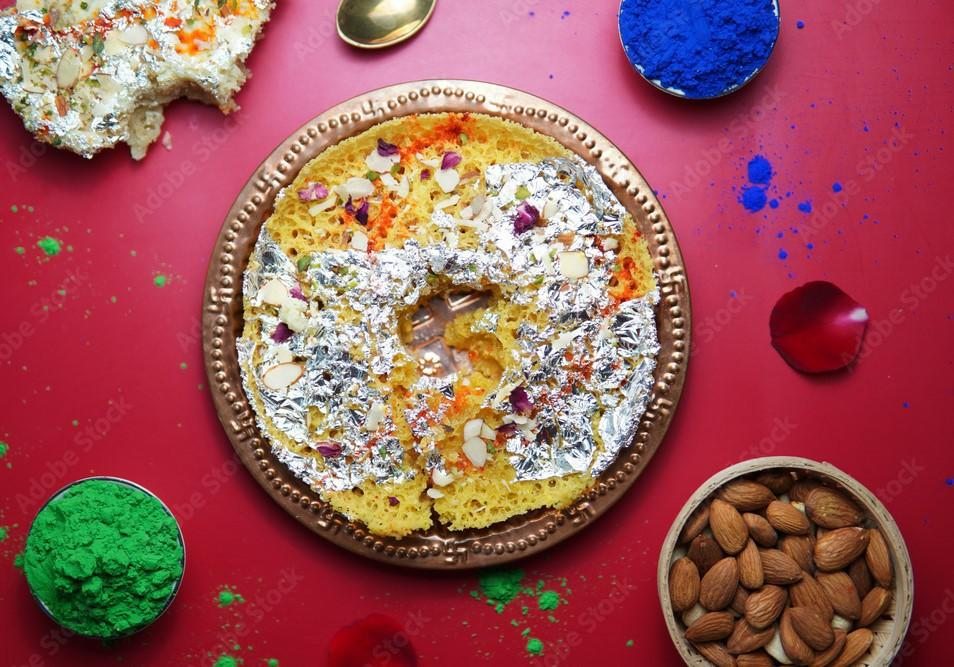Ghevar: (242, 113, 660, 528)
